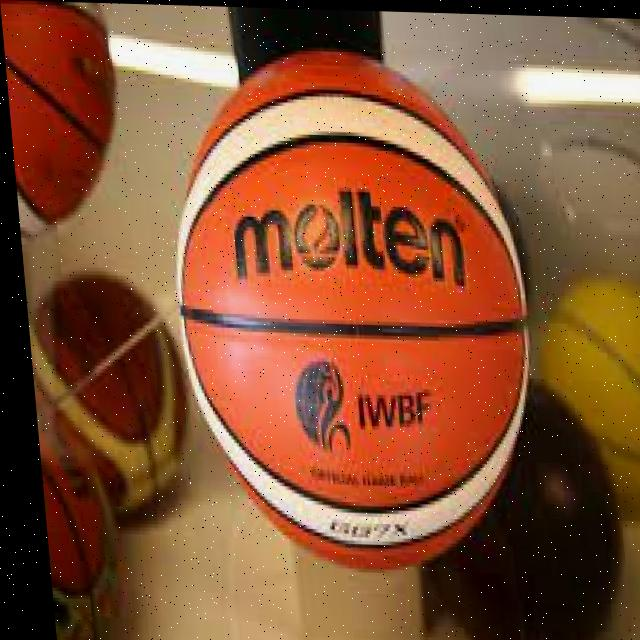Basketball: (152, 50, 547, 577), (27, 271, 196, 514), (0, 3, 125, 226)
